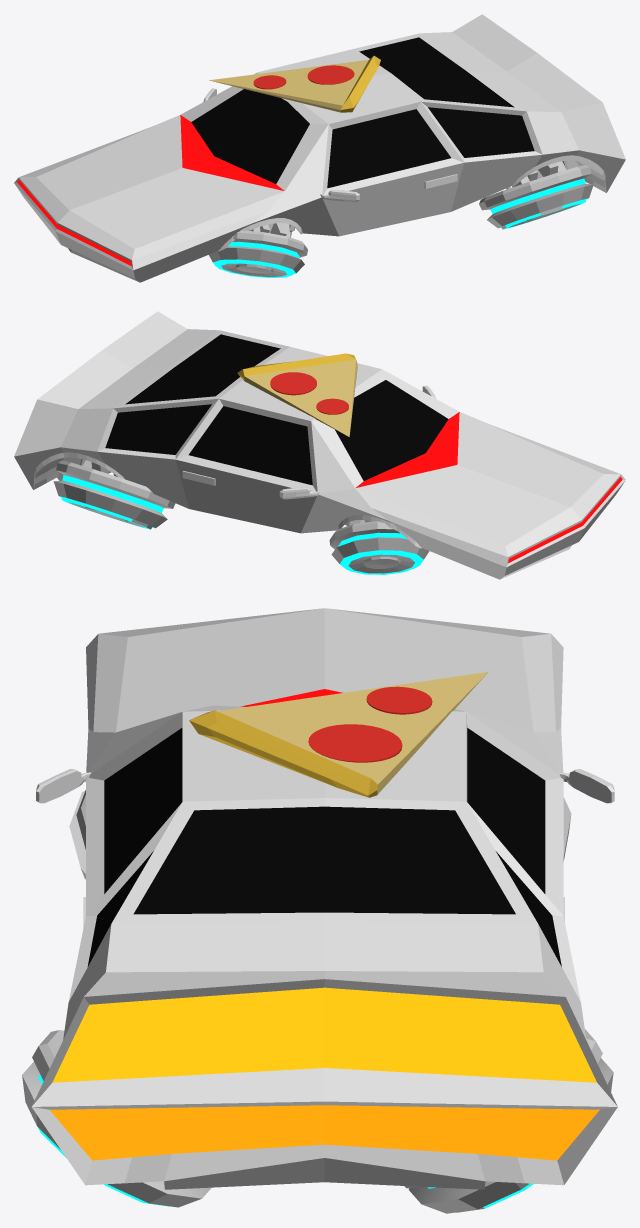
File: pizzaShip.fbx
3 views of the same model, one above another, from view 1: azimuth 30°, elevation 25°; view 2: azimuth 150°, elevation 25°; view 3: azimuth 270°, elevation 25° (orthographic). The views are drawn at different scales.
Parts seen in each view (by area): view 1: car, Cube.001, SM_Veh_Classic_01_Wheel_fr_Hover, SM_Veh_Classic_01_Wheel_rr_Hover; view 2: car, Cube.001, SM_Veh_Classic_01_Wheel_fl_Hover, SM_Veh_Classic_01_Wheel_rl_Hover; view 3: car, Cube.001, SM_Veh_Classic_01_Wheel_fr_Hover, SM_Veh_Classic_01_Wheel_fl_Hover, SM_Veh_Classic_01_Wheel_rr_Hover.
Boxes of the visible parts, x1,y1,x2,y2 form: car: (14,14,625,282); Cube.001: (209,55,380,112); SM_Veh_Classic_01_Wheel_fr_Hover: (479,160,593,229); SM_Veh_Classic_01_Wheel_rr_Hover: (209,223,307,277); car: (14,311,625,579); Cube.001: (237,353,357,436); SM_Veh_Classic_01_Wheel_fl_Hover: (53,459,175,529); SM_Veh_Classic_01_Wheel_rl_Hover: (329,520,429,574); car: (31,608,617,1189); Cube.001: (189,672,487,797); SM_Veh_Classic_01_Wheel_fr_Hover: (22,1030,211,1207); SM_Veh_Classic_01_Wheel_fl_Hover: (404,1029,613,1213); SM_Veh_Classic_01_Wheel_rr_Hover: (69,790,85,879).
Bounding box in the file's own units: 216 × 69.02 × 112.
